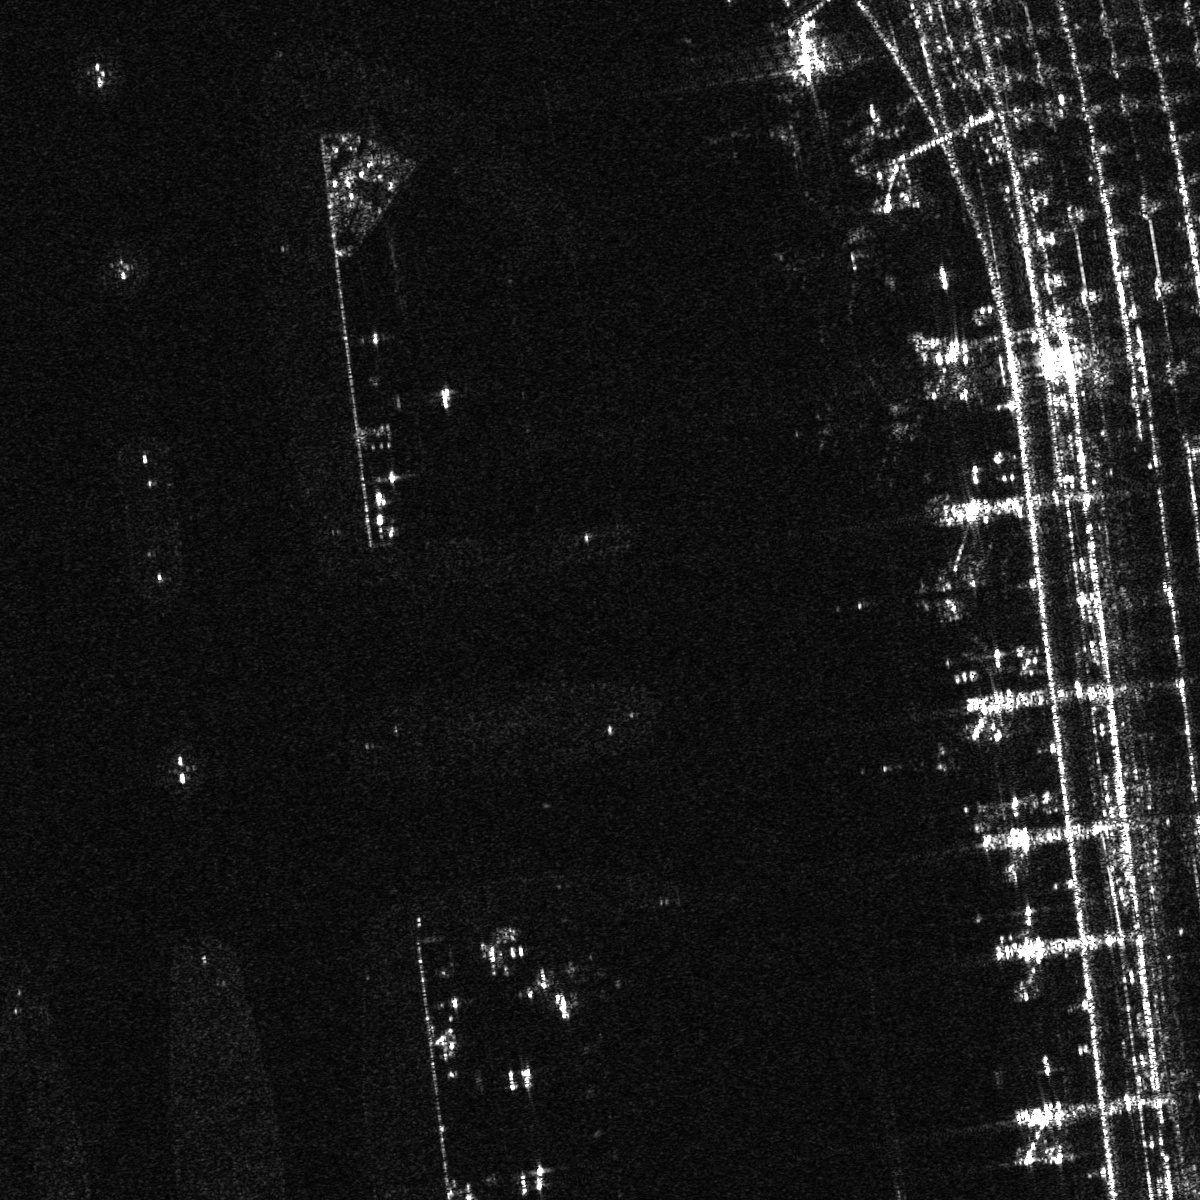Boeing787: (773, 192, 880, 323)
other: (816, 357, 924, 484), (713, 67, 819, 180)
